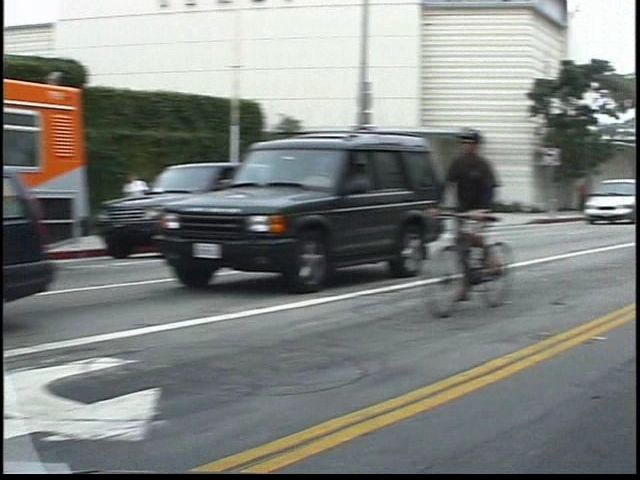person: (462, 122, 529, 305), (144, 170, 174, 242), (591, 171, 614, 220)
